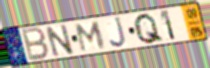1: (159, 8, 177, 43)
B: (21, 26, 51, 63)
J: (109, 16, 129, 50)
M: (75, 20, 107, 54)
N: (44, 23, 77, 59)
Q: (133, 12, 166, 46)
